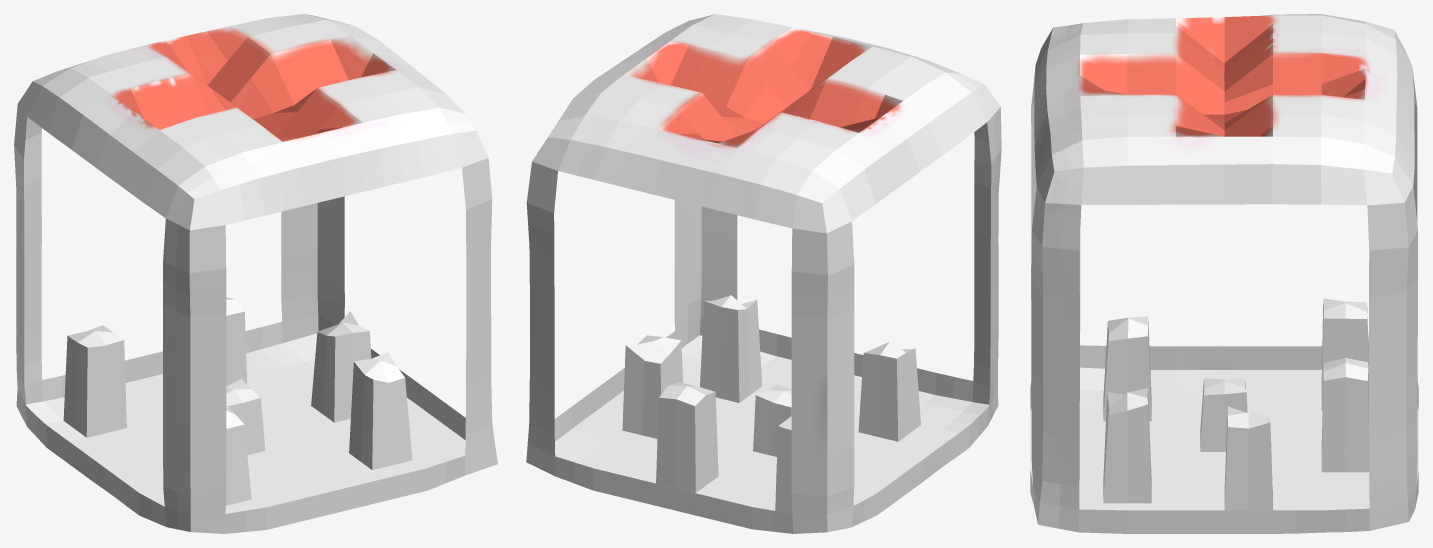
File: medic.obj
3 renders of one model, left to right at view 1: azimuth 30°, elevation 25°; view 2: azimuth 150°, elevation 25°; view 3: azimuth 270°, elevation 25°, orthographic. The views are drawn at different scales.
Parts seen in each view (by area): view 1: Cube; view 2: Cube; view 3: Cube.
Boxes of the visible parts, x1,y1,x2,y2 form: Cube: [14, 14, 497, 533]; Cube: [526, 14, 1001, 533]; Cube: [1030, 14, 1418, 533].
Bounding box in the file's own units: 2 × 2.15 × 2.
